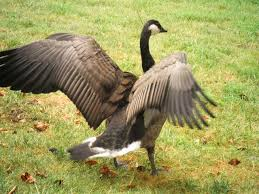goose: (51, 20, 184, 176)
